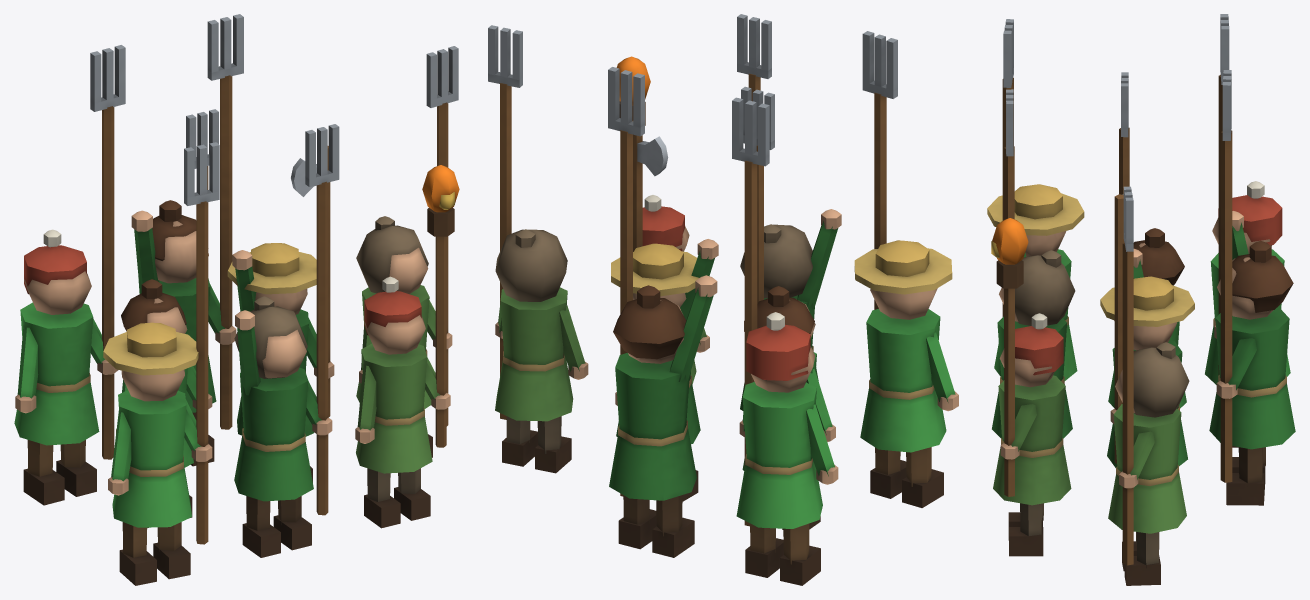
The model's file is squad_dl1_green.glb.
3 views of the same model, side by side, from view 1: azimuth 30°, elevation 25°; view 2: azimuth 150°, elevation 25°; view 3: azimuth 270°, elevation 25° (orthographic). The views are drawn at different scales.
Parts seen in each view (by area): view 1: squad_dl1_green; view 2: squad_dl1_green; view 3: squad_dl1_green.
Boxes of the visible parts, box(x1,y1,x2,y2) form: squad_dl1_green: box(14, 14, 459, 585); squad_dl1_green: box(488, 14, 958, 585); squad_dl1_green: box(987, 14, 1295, 585).
Size of the model in its own units: 0.6647 by 0.6989 by 0.451.
1 material, 1 textured.
